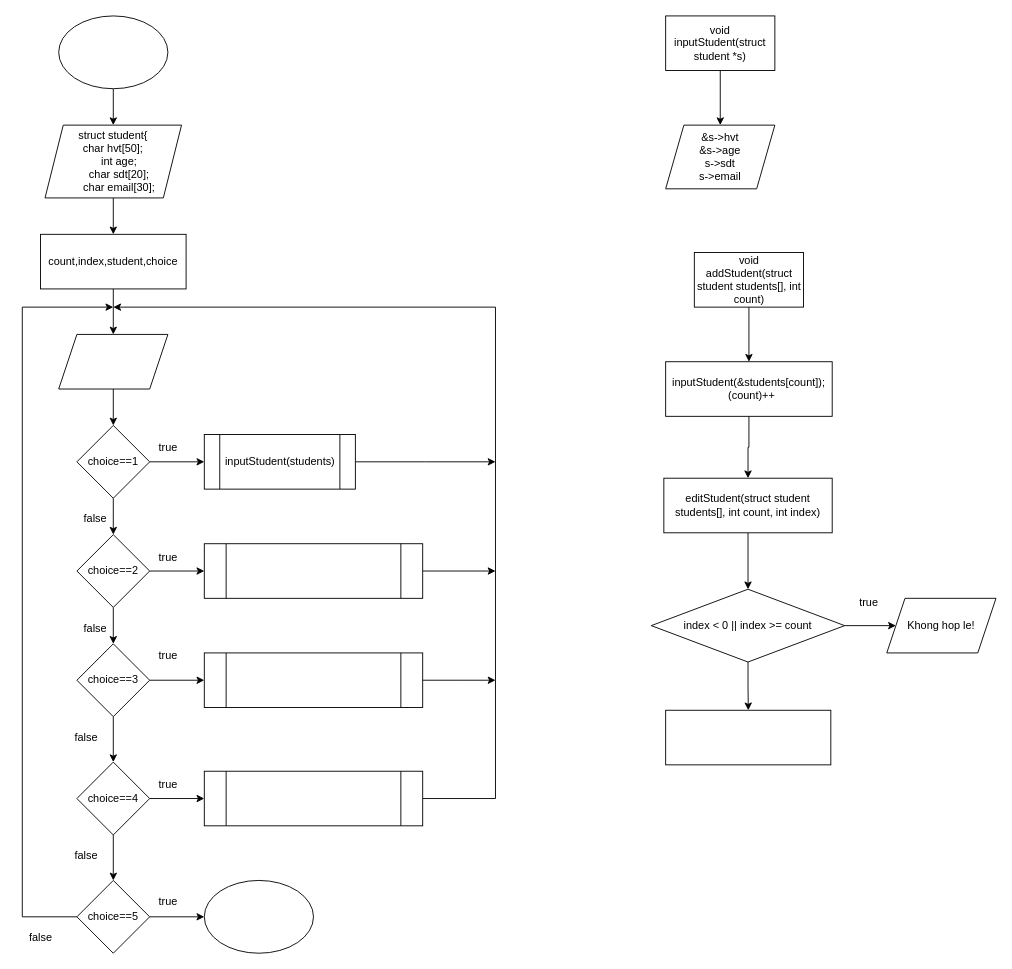
This 1012x969 diagram has some shape labels left out. Each missing label, with the centre of its shape:
"addStudent(students, count); printStudents(students, count);" belongs at point 313,570.
"deleteStudent(students, count, index); printStudents(students, count);" belongs at point 313,798.
"editStudent(students, count, index); printStudents(students, count);" belongs at point 313,680.
"end" belongs at point 258,916.
"inputStudent(&students[index]" belongs at point 748,737.
"MENU" belongs at point 113,361.
"start" belongs at point 113,52.
